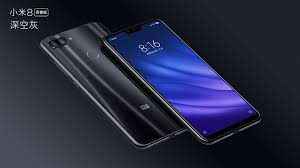mi: (37, 20, 190, 153)
